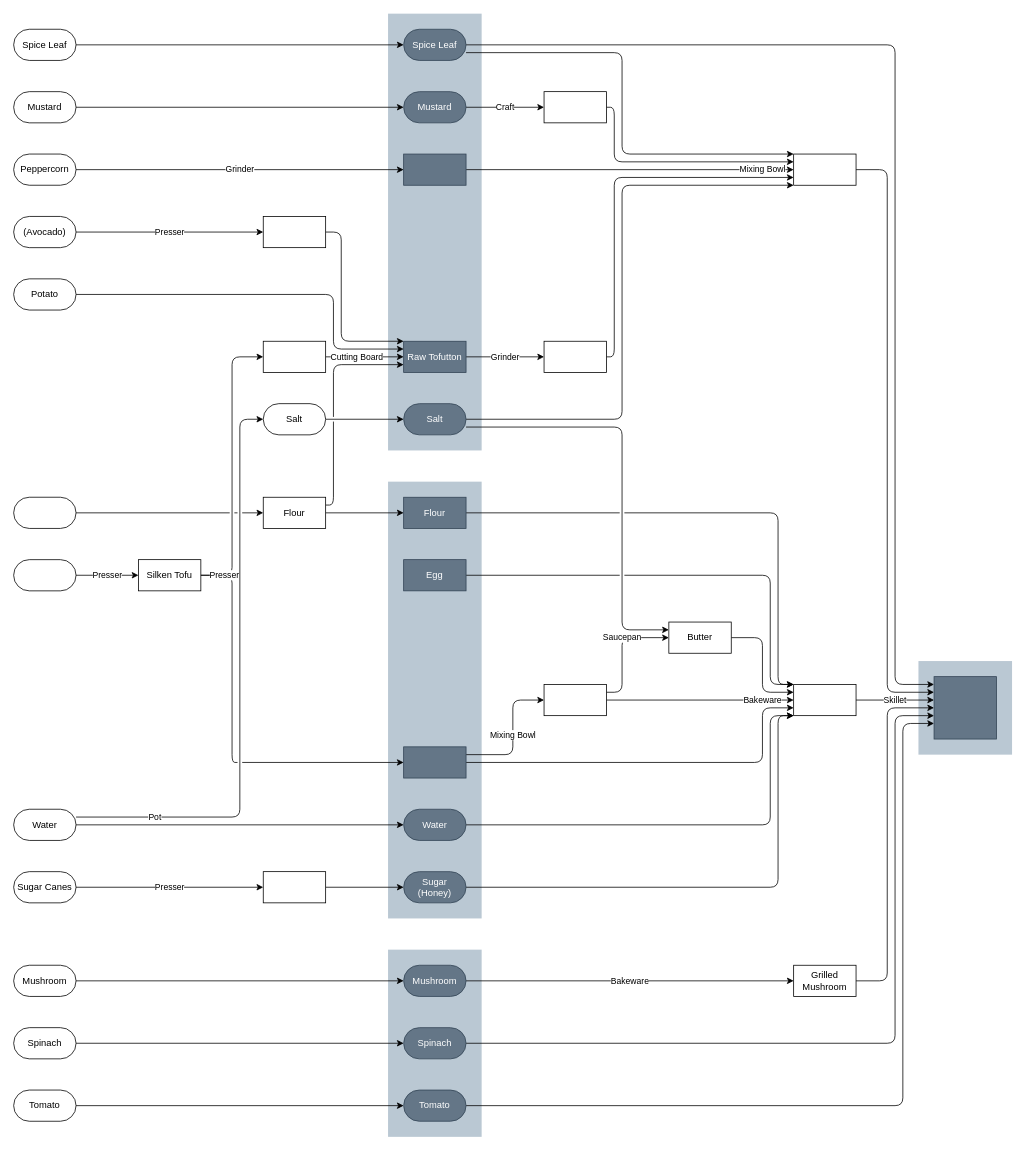
This 1026x1150 diagram has some shape labels left out. The shapes that lost their labels are listed below. From the top down, each one's centre as x and y in pixels, then its label:
[574,107]: Mustard Seed
[434,169]: Black Pepper
[824,169]: Gourmet Mutton Patty
[294,232]: Cooking Oil
[294,356]: Firm Tofu
[574,356]: Ground Mutton
[44,512]: Wheat
[44,575]: Soybean
[574,700]: Heavy Cream
[824,700]: Brioche
[964,707]: Gourmet Mutton Burger
[434,762]: Soy Milk
[294,887]: Sugar
